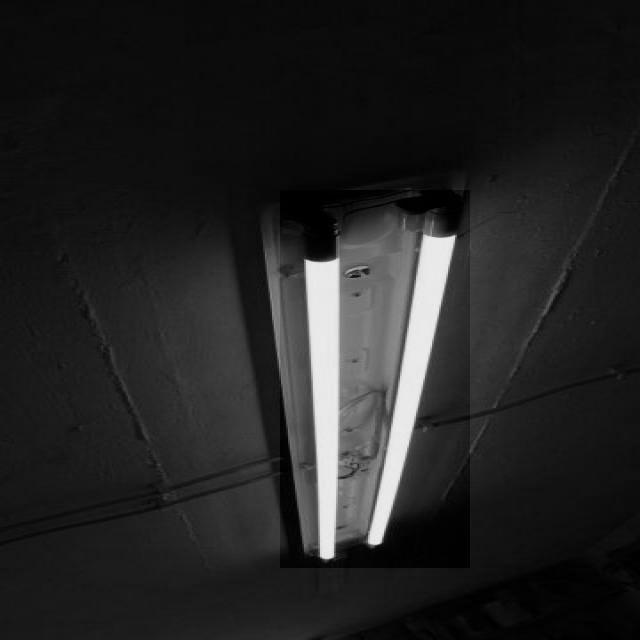light: (258, 184, 464, 561)
